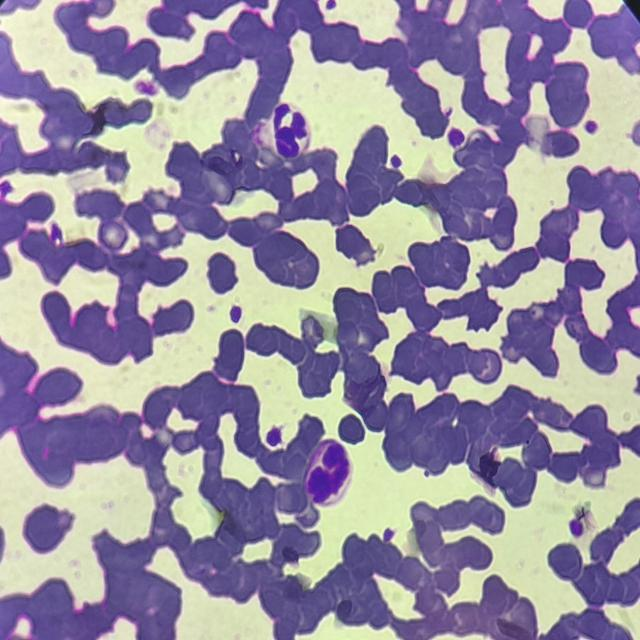Neutrofilo: (303, 440, 354, 506), (272, 105, 310, 160)
